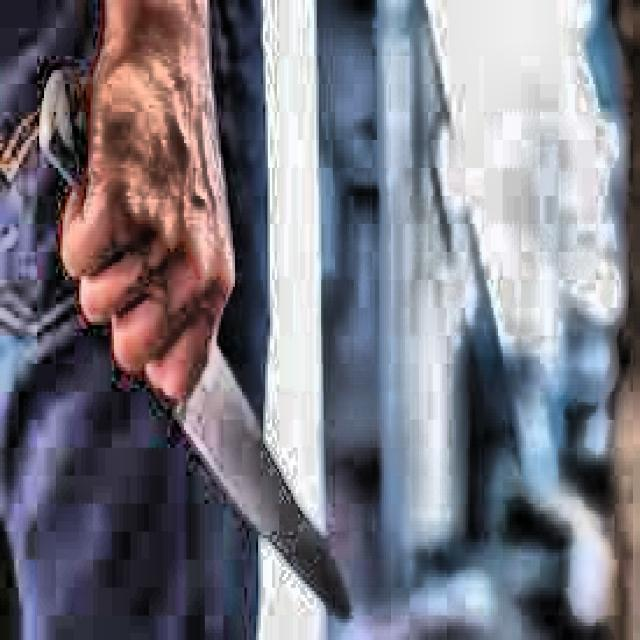knife: (42, 74, 353, 621)
